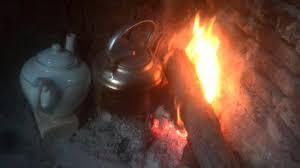fire: (184, 14, 223, 106), (151, 102, 188, 143)
